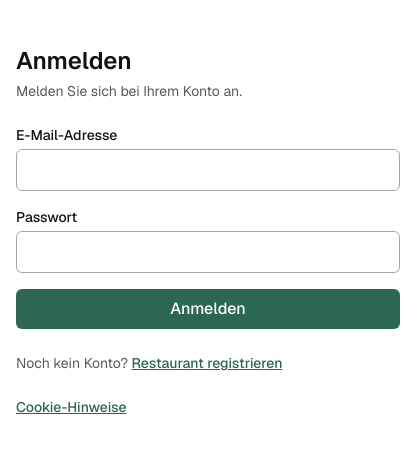
it: LoginPage keeps the e-mail after a failed login › renders a form with a function action (never a bare GET form) and clears only the password
In the field labelled "E-Mail-Adresse": (208, 170) [16,149,400,191], type "a@b.de"
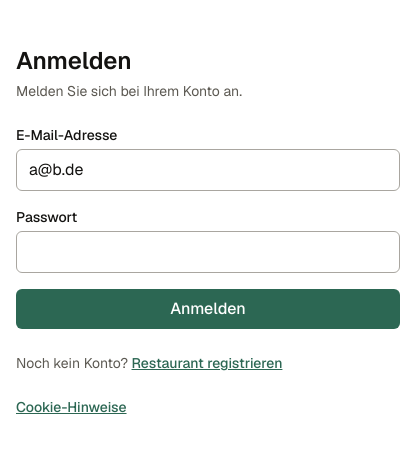
In the password field labelled "Passwort": (208, 252) [16,231,400,273], type "wrong-pw"
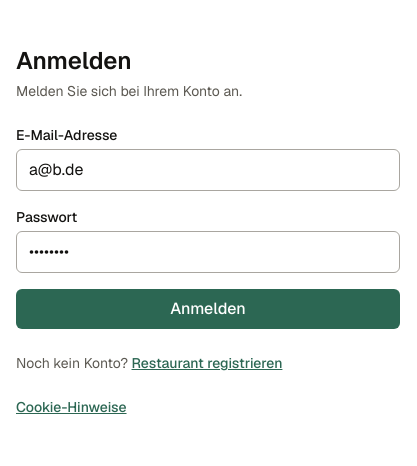
Click the button "Anmelden": (208, 309) [16,289,400,329]
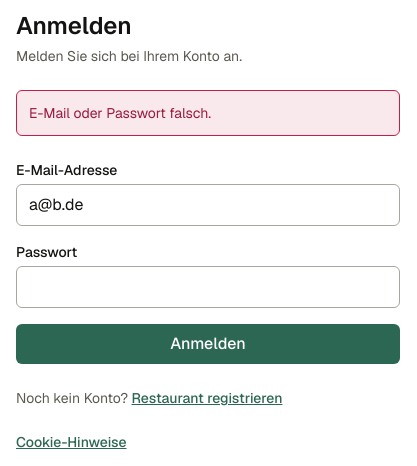
Expected: the message "E-Mail oder Passwort falsch." is shown, [16,90,400,136]
Expected: the password field labelled "Passwort" is empty, [16,266,400,308]
